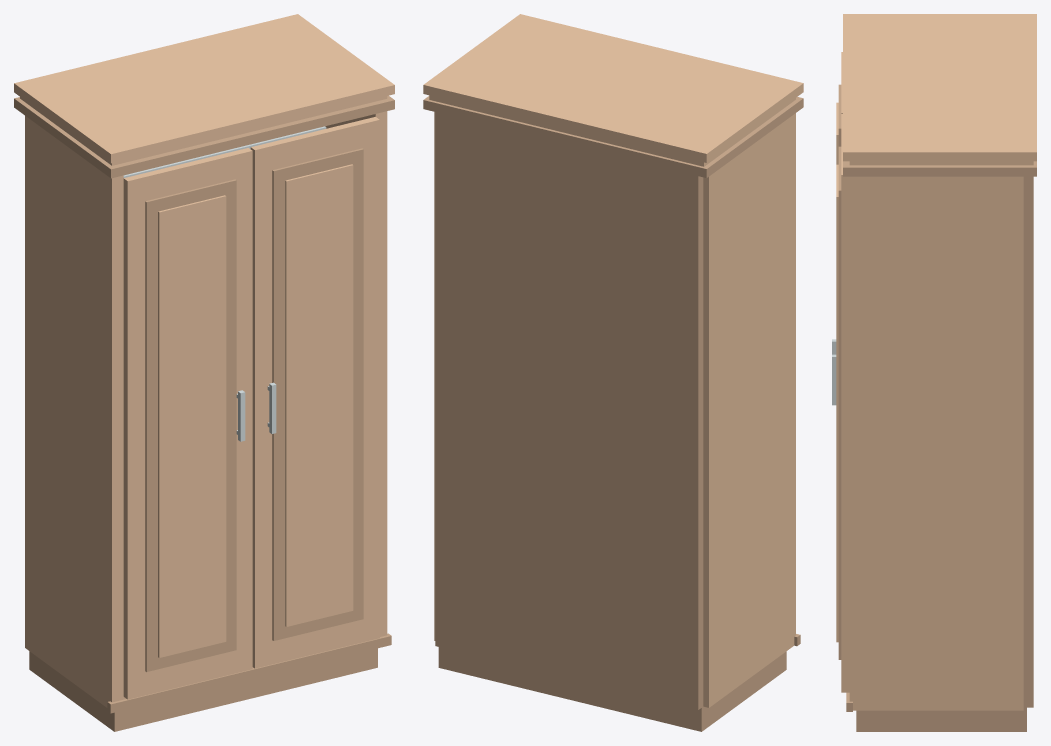
The model's file is wardrobeClassic.glb.
3 views of the same model, side by side, from view 1: azimuth 30°, elevation 25°; view 2: azimuth 150°, elevation 25°; view 3: azimuth 270°, elevation 25° (orthographic).
Visible parts, largest first — view 1: wardrobeClassic, anim:doorL, anim:doorR, anim:interior; view 2: wardrobeClassic; view 3: wardrobeClassic, anim:doorR, anim:doorL.
Boxes of the visible parts, x1,y1,x2,y2 form: wardrobeClassic: [14, 14, 394, 731]; anim:doorL: [123, 148, 252, 699]; anim:doorR: [250, 117, 379, 668]; anim:interior: [123, 126, 326, 177]; wardrobeClassic: [423, 14, 803, 731]; wardrobeClassic: [843, 14, 1036, 731]; anim:doorR: [832, 114, 849, 692]; anim:doorL: [832, 52, 842, 354].
Size of the model in its own units: 0.49 by 0.965 by 0.3065.
